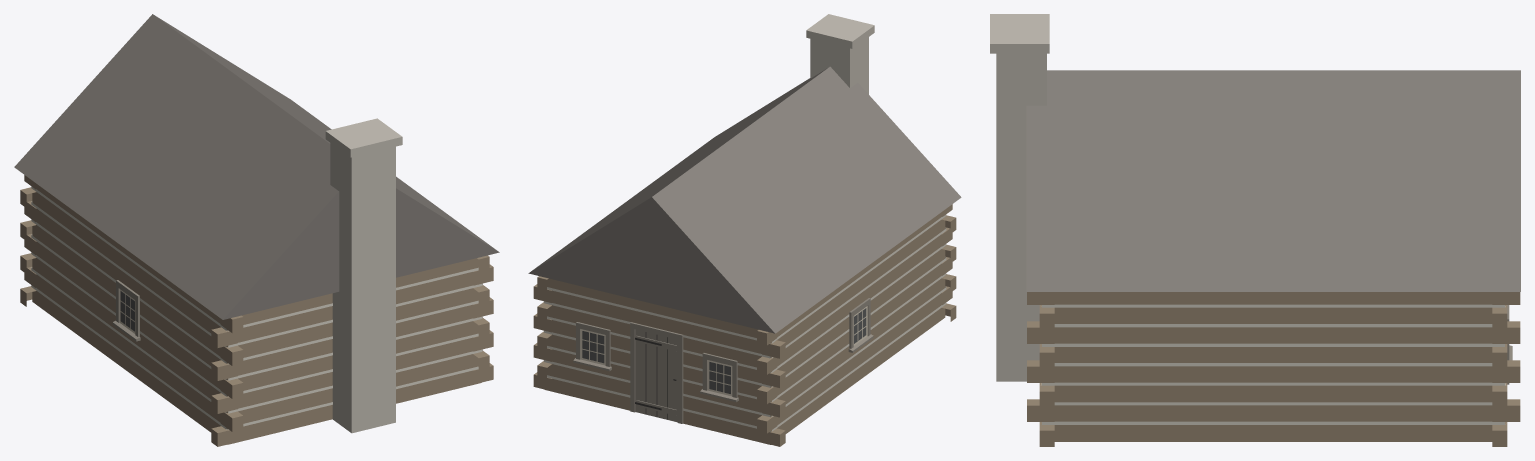
Rendered from recon_1835_west_038__inferred_1835.glb.
The picture shows the model from 3 angles, left to right: view 1: azimuth 30°, elevation 25°; view 2: azimuth 150°, elevation 25°; view 3: azimuth 270°, elevation 25°; orthographic projection. The views are drawn at different scales.
Visible parts, largest first — view 1: recon_1835_west_038__inferred_1835; view 2: recon_1835_west_038__inferred_1835; view 3: recon_1835_west_038__inferred_1835.
Part boxes in pixels (x1=…): recon_1835_west_038__inferred_1835: x1=14, y1=14, x2=499, y2=446; recon_1835_west_038__inferred_1835: x1=528, y1=14, x2=961, y2=446; recon_1835_west_038__inferred_1835: x1=990, y1=14, x2=1520, y2=446.
Bounding box in the file's own units: 5.99 × 5.92 × 8.39.
